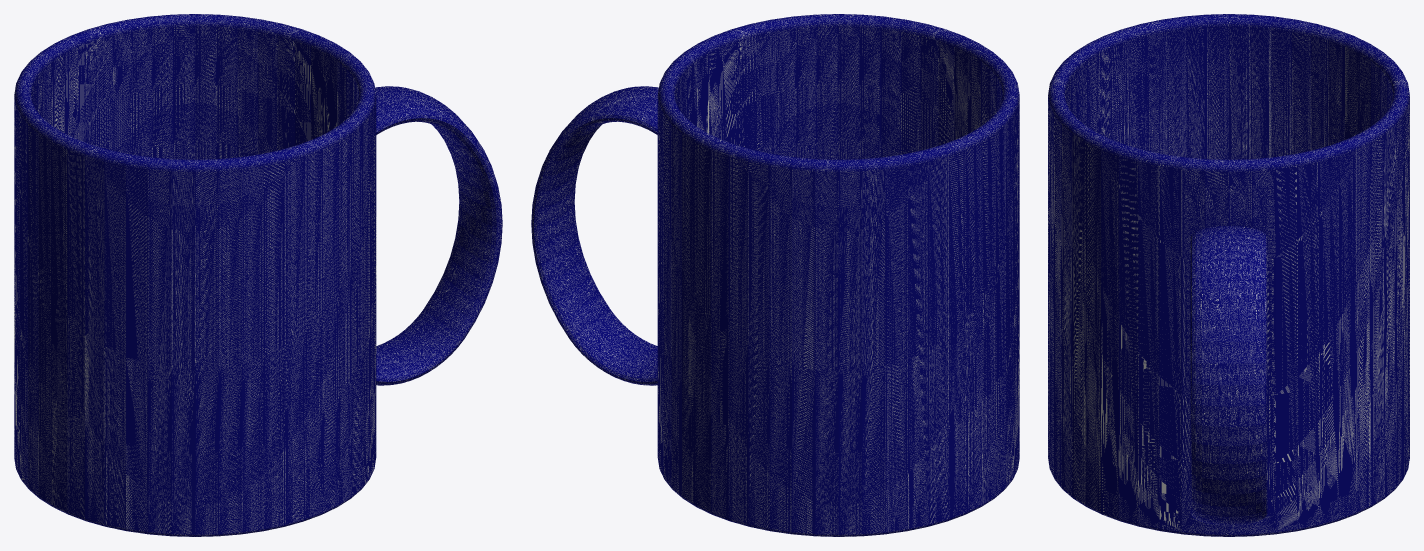
3 views of the same model, side by side, from view 1: azimuth 30°, elevation 25°; view 2: azimuth 150°, elevation 25°; view 3: azimuth 270°, elevation 25° (orthographic).
Visible parts, largest first — view 1: mesh1_mesh1-geometry; view 2: mesh1_mesh1-geometry; view 3: mesh1_mesh1-geometry.
Part boxes in pixels (box(x1,y1,x2,y2)): mesh1_mesh1-geometry: box(14, 14, 502, 536); mesh1_mesh1-geometry: box(531, 14, 1019, 536); mesh1_mesh1-geometry: box(1048, 14, 1409, 536).
Bounding box in the file's own units: 0.6895 × 0.5448 × 0.4774.
